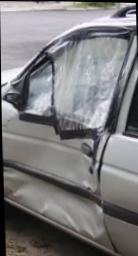Door: (3, 94, 112, 244)
